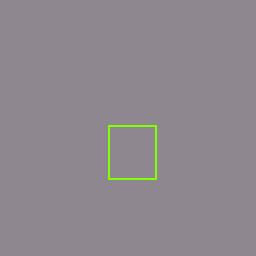Safety Vest: (108, 124, 156, 180)
